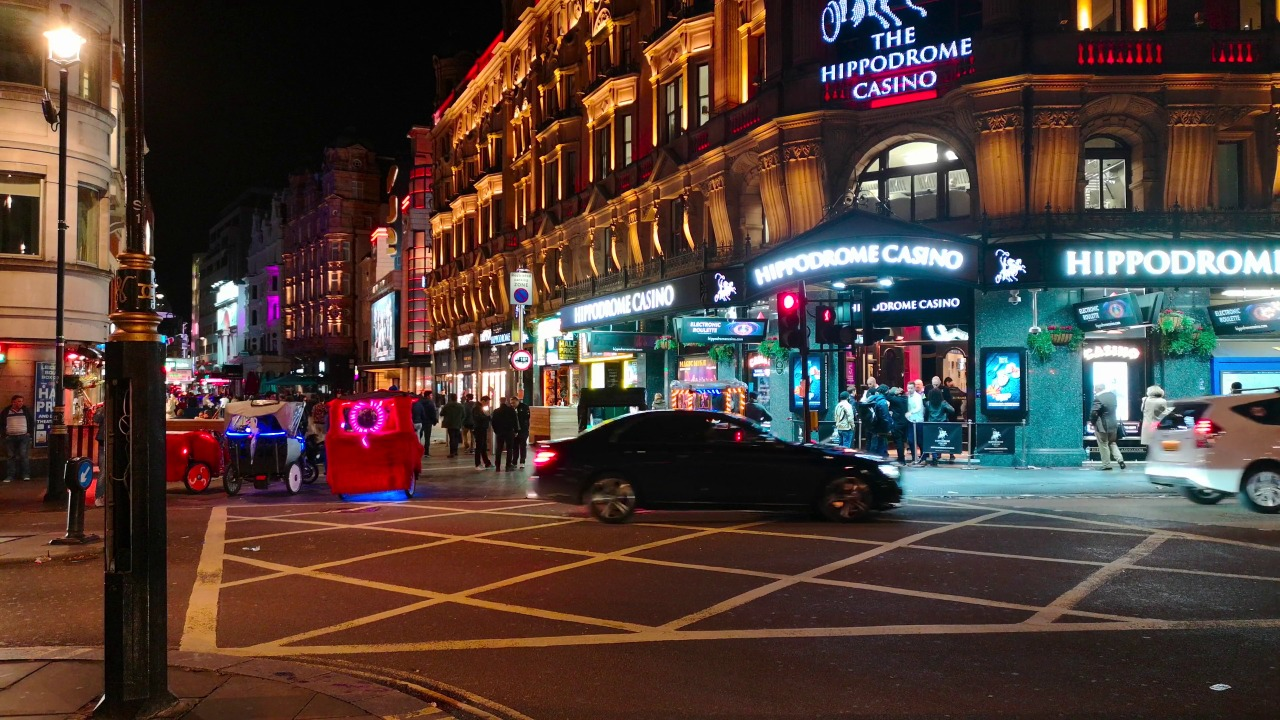car: (519, 407, 916, 538), (1147, 389, 1280, 516), (336, 394, 424, 506), (228, 389, 312, 490), (173, 426, 234, 495), (673, 382, 740, 404)
person: (1086, 380, 1124, 462), (904, 383, 925, 470), (931, 394, 956, 467), (443, 394, 466, 463), (471, 397, 491, 471), (498, 397, 511, 472), (872, 385, 888, 443), (837, 397, 857, 443), (749, 389, 768, 420), (1140, 385, 1158, 402), (934, 381, 949, 393), (1224, 377, 1237, 390), (868, 377, 879, 390)
